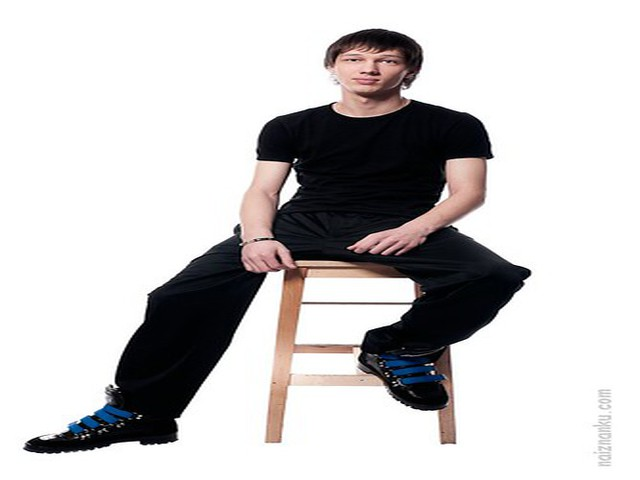Person: (124, 30, 530, 443)
